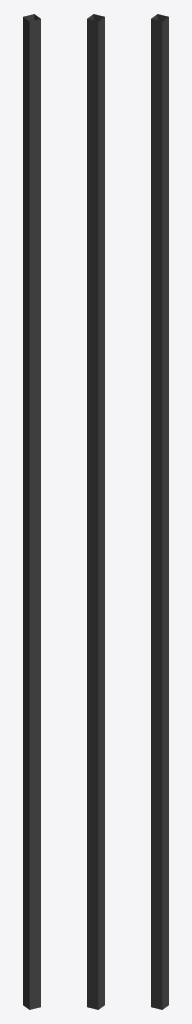
File: Itr_Lamp_Neck_01.FBX
The picture shows the model from 3 angles, left to right: view 1: azimuth 30°, elevation 25°; view 2: azimuth 150°, elevation 25°; view 3: azimuth 330°, elevation 25°; orthographic projection.
Parts seen in each view (by area): view 1: Itr_Lamp_Neck_01; view 2: Itr_Lamp_Neck_01; view 3: Itr_Lamp_Neck_01.
Boxes of the visible parts, x1,y1,x2,y2 form: Itr_Lamp_Neck_01: [23, 14, 40, 1009]; Itr_Lamp_Neck_01: [87, 14, 104, 1009]; Itr_Lamp_Neck_01: [151, 14, 168, 1009].
Bounding box in the file's own units: 0.6459 × 53.63 × 0.6459.
